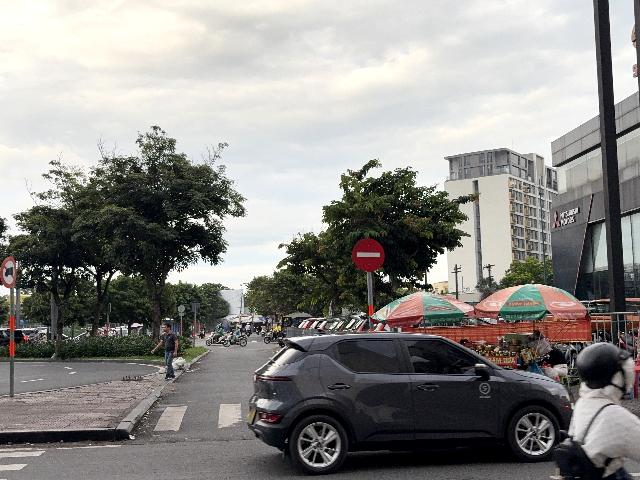cam-di-nguoc-chieu: (351, 238, 384, 272)
